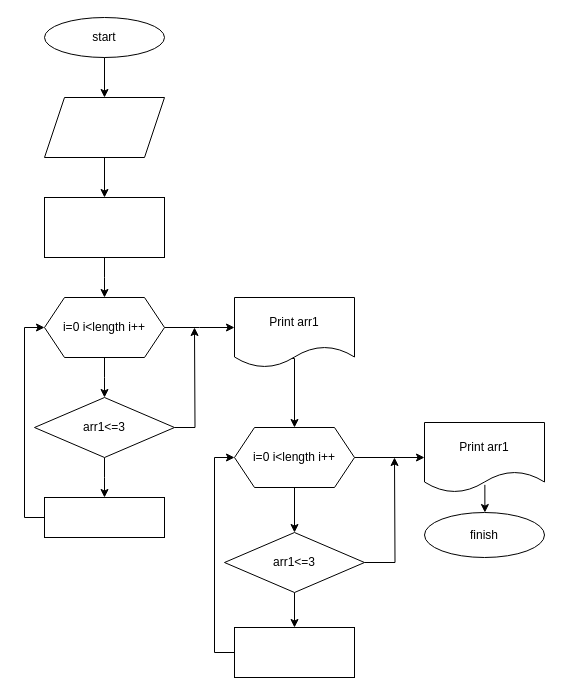
This 562x695 diagram has some shape labels left out. Here are the shapes that lost their labels. From the top down, the box of each, then its label:
(44, 96, 164, 158): arr1 arr2 length
(44, 196, 164, 258): i=0 count=0 max=3
(44, 496, 164, 538): count++
(234, 626, 354, 678): arr2=arr1 i++
